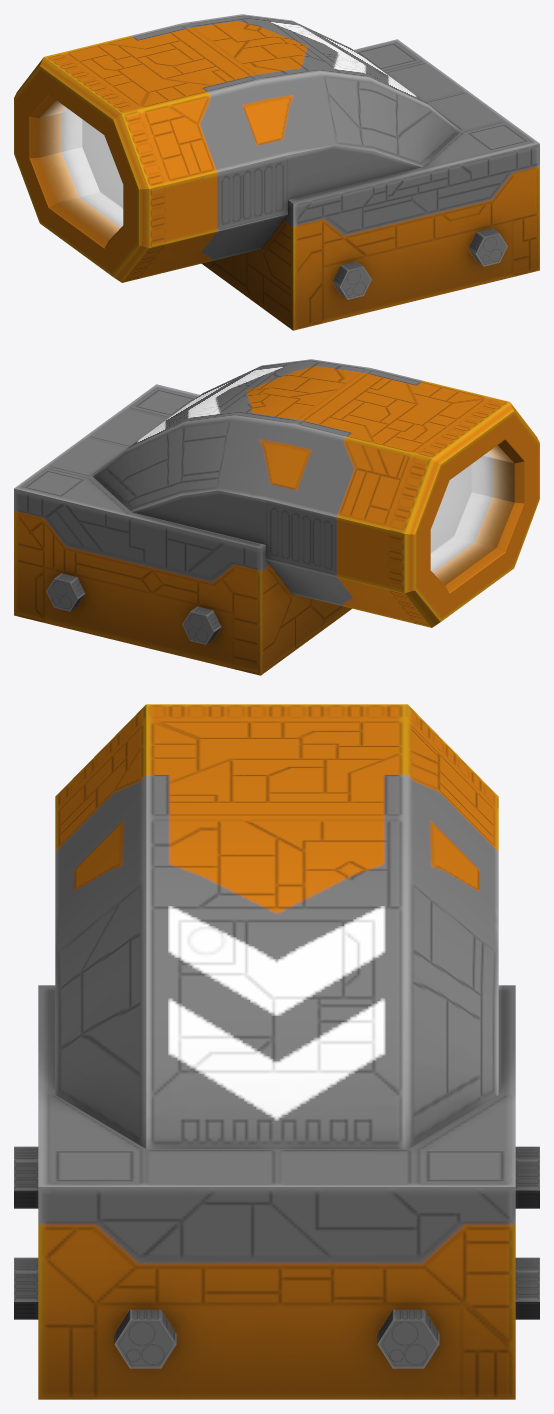
File: Thruster.dae
The picture shows the model from 3 angles, top to bottom: view 1: azimuth 30°, elevation 25°; view 2: azimuth 150°, elevation 25°; view 3: azimuth 270°, elevation 25°; orthographic projection. The views are drawn at different scales.
Visible parts, largest first — view 1: Thruster; view 2: Thruster; view 3: Thruster.
Part boxes in pixels (x1=…): Thruster: x1=14, y1=14, x2=539, y2=330; Thruster: x1=14, y1=359, x2=539, y2=675; Thruster: x1=14, y1=704, x2=539, y2=1399.
Bounding box in the file's own units: 2.98 × 1.59 × 2.
